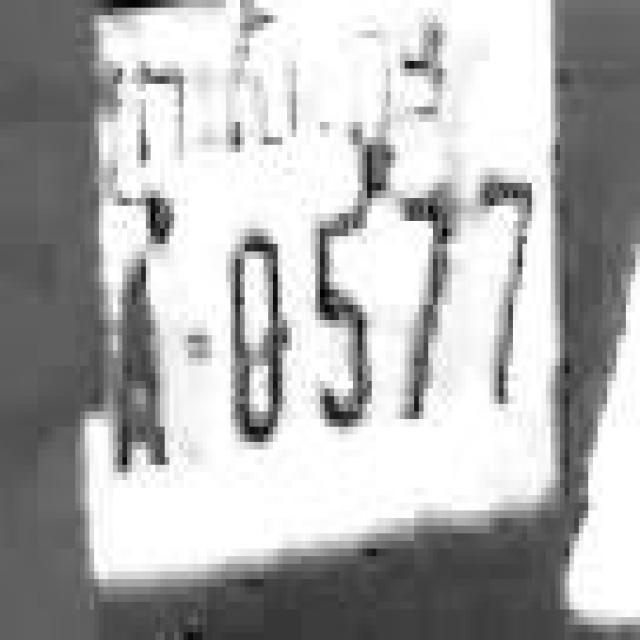Preah_Sihanouk: (108, 15, 442, 208)
